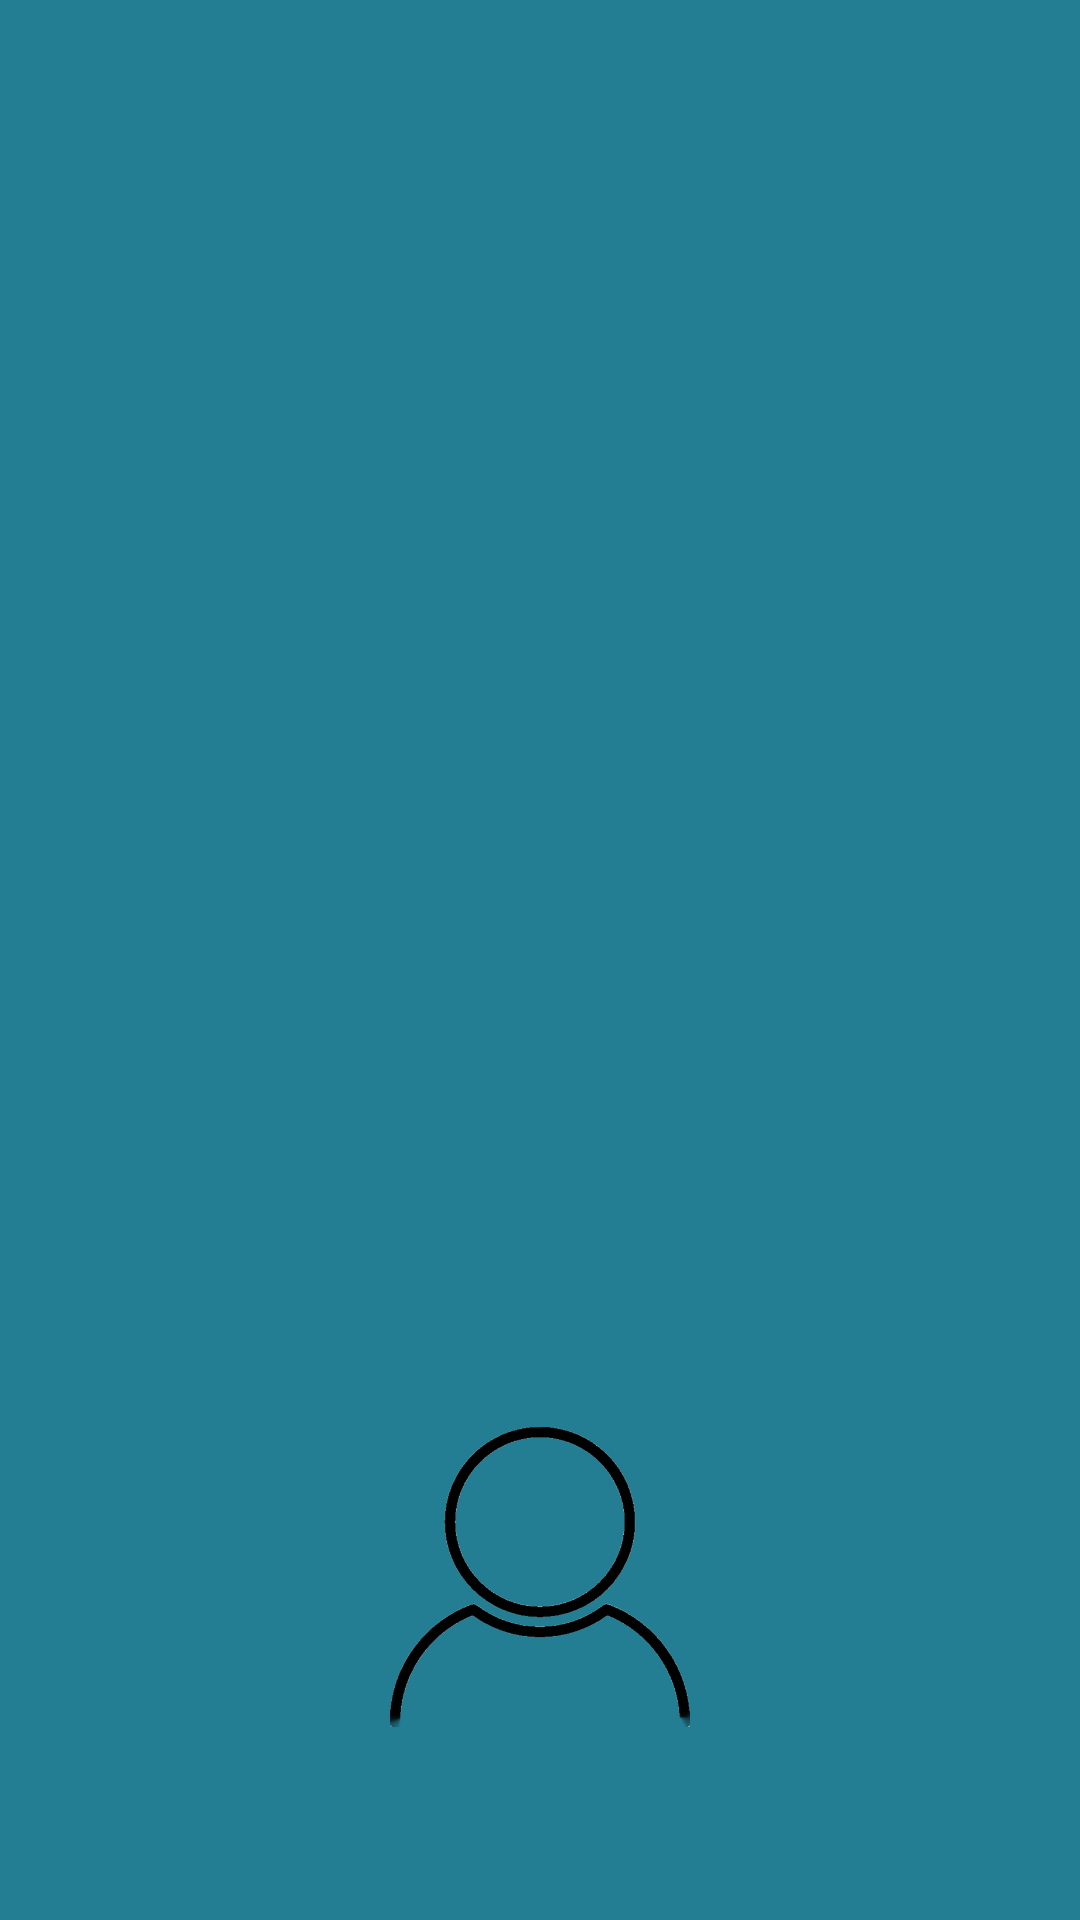

Point at icon controls on the screen. Image size 1080×1920, points as point (x, y).
User Image: point (540, 1577)
